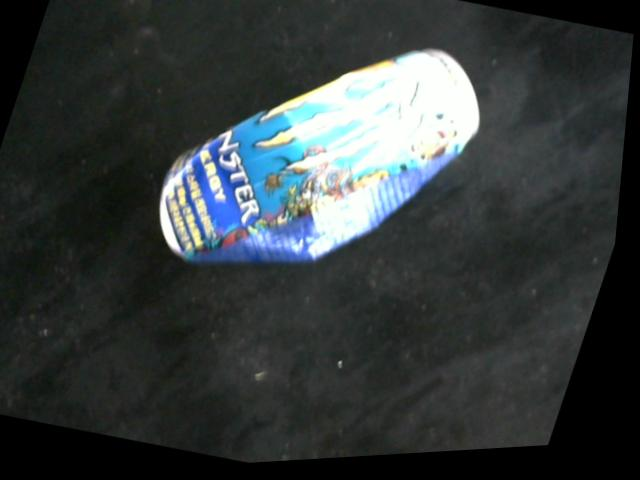can: (169, 47, 486, 270)
